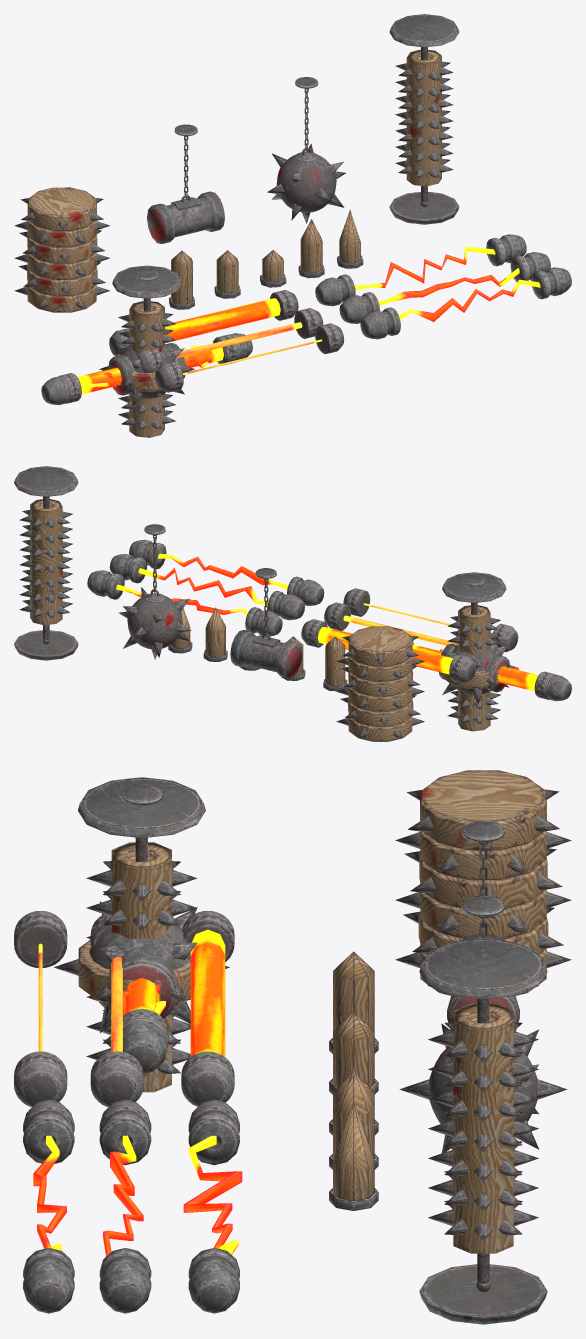
Rendered from obstacles.fbx.
The picture shows the model from 3 angles, top to bottom: view 1: azimuth 30°, elevation 25°; view 2: azimuth 150°, elevation 25°; view 3: azimuth 270°, elevation 25°; orthographic projection. The views are drawn at different scales.
Visible parts, largest first — view 1: pillow_low (×7), cylinder_low (×2), waves_base_low (×4), sphere_low (×2), rays_base_low (×4), hammer_swing_low (×2), cylinder_base_low (×2), ray_large_low (×2), cylinder_base_low1, floor_cone3_low, waves_01_low, floor_cone5_low (+6 smaller); view 2: pillow_low (×7), cylinder_low (×2), waves_base_low (×4), sphere_low (×2), hammer_swing_low (×2), cylinder_base_low (×2), rays_base_low (×3), ray_large_low (×2), cylinder_base_low1, floor_cone5_low, floor_cone3_low, waves_03_low (+3 smaller); view 3: cylinder_low (×2), pillow_low (×7), waves_base_low (×4), cylinder_base_low (×2), rays_base_low (×3), sphere_low (×2), cylinder_base_low1, ray_large_low (×2), floor_cone4_low, hammer_swing_low (×2), floor_cone5_low, floor_cone1_low (+7 smaller).
Part boxes in pixels (<box>): pillow_low (×7): <box>14,187,194,391</box>; cylinder_low (×2): <box>118,49,453,437</box>; waves_base_low (×4): <box>41,234,571,405</box>; sphere_low (×2): <box>112,144,345,406</box>; rays_base_low (×4): <box>59,290,344,403</box>; hammer_swing_low (×2): <box>108,191,224,395</box>; cylinder_base_low (×2): <box>112,14,459,298</box>; ray_large_low (×2): <box>77,298,280,394</box>; cylinder_base_low1: <box>389,192,459,224</box>; floor_cone3_low: <box>300,219,322,272</box>; waves_01_low: <box>398,279,540,321</box>; floor_cone5_low: <box>171,250,192,304</box>; pillow_low (×7): <box>336,626,516,741</box>; cylinder_low (×2): <box>19,499,500,731</box>; waves_base_low (×4): <box>87,539,571,701</box>; sphere_low (×2): <box>118,587,508,703</box>; hammer_swing_low (×2): <box>230,630,509,692</box>; cylinder_base_low (×2): <box>14,466,506,602</box>; rays_base_low (×3): <box>301,588,518,682</box>; ray_large_low (×2): <box>317,627,538,691</box>; cylinder_base_low1: <box>14,630,78,660</box>; floor_cone5_low: <box>325,636,345,685</box>; floor_cone3_low: <box>205,607,225,656</box>; waves_03_low: <box>138,568,268,604</box>; cylinder_low (×2): <box>86,842,538,1253</box>; pillow_low (×7): <box>54,770,571,1002</box>; waves_base_low (×4): <box>23,1008,239,1313</box>; cylinder_base_low (×2): <box>78,777,547,999</box>; rays_base_low (×3): <box>14,911,234,1107</box>; sphere_low (×2): <box>89,901,567,1153</box>; cylinder_base_low1: <box>419,1264,547,1324</box>; ray_large_low (×2): <box>124,929,225,1056</box>; floor_cone4_low: <box>333,1102,374,1200</box>; hammer_swing_low (×2): <box>107,934,519,1031</box>; floor_cone5_low: <box>333,951,374,1031</box>; floor_cone1_low: <box>333,1012,374,1086</box>.
Size of the model in its own units: 487 by 225 by 256.
Materials: 1 (1 with a texture image).
